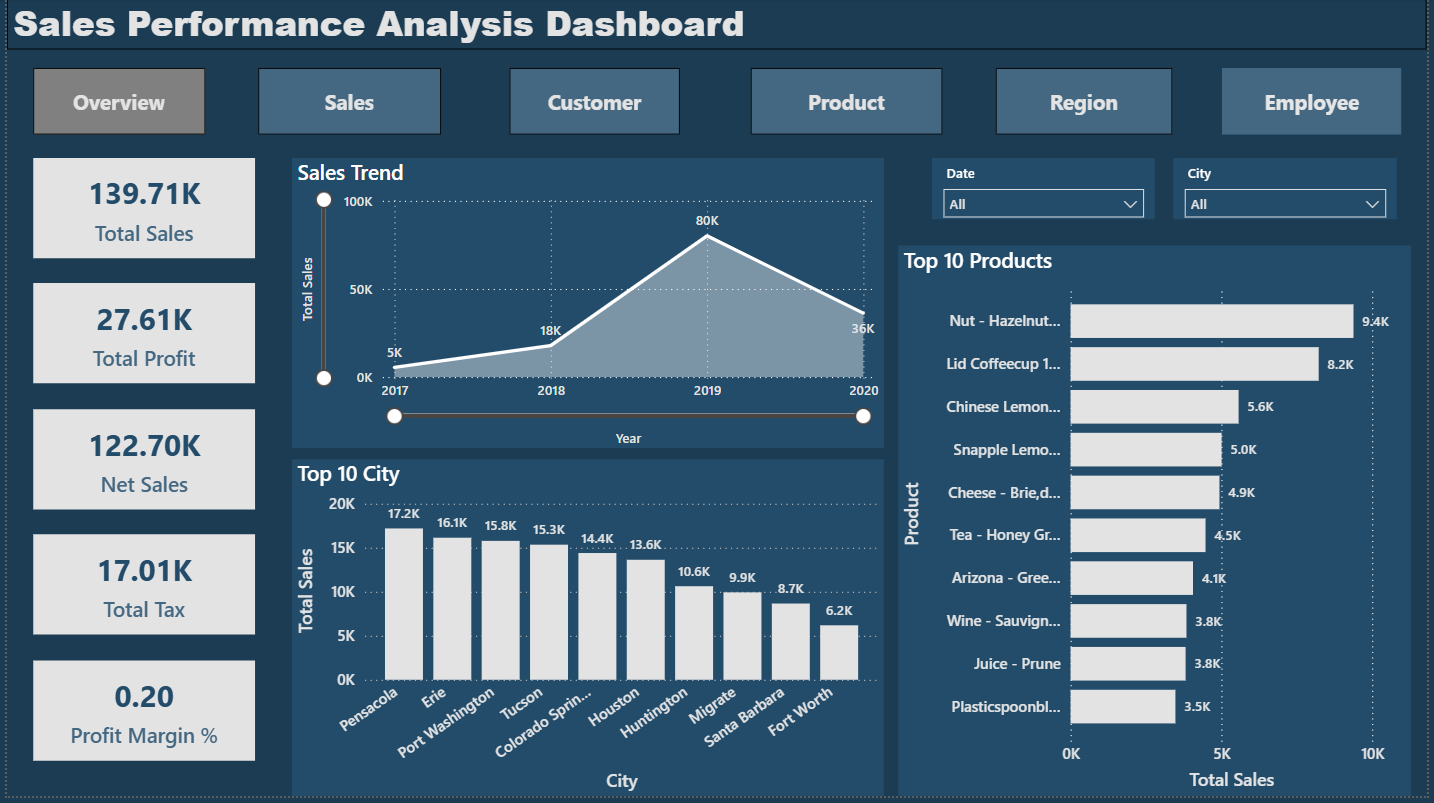

This screenshot's page, from the dashboard's own definition file:
{"tool":"powerbi","page":{"name":"Overview Dashboard","canvas":[1280,720],"ordinal":0},"visuals":[{"type":"textbox","title":"Sales Performance Analysis Dashboard","box":[0,0,1280.3,46.7],"z":0},{"type":"card","fields":{"Values":["sales.Total Sales"]},"box":[23.3,144.1,200.3,90],"z":1000},{"type":"card","fields":{"Values":["sales.Profit Margin %"]},"box":[23.3,596.9,200.3,90.6],"z":2000},{"type":"card","fields":{"Values":["sales.Total Profit"]},"box":[23.3,256.6,200.3,90.6],"z":3000},{"type":"card","fields":{"Values":["sales.Total Tax"]},"box":[23.3,483,200.3,90.6],"z":4000},{"type":"card","fields":{"Values":["sales.Net Sales"]},"box":[23.3,370.5,200.3,90.6],"z":5000},{"type":"lineChart","title":"Sales Trend","fields":{"Category":["sales.date.Variation.Date Hierarchy.Year","sales.date.Variation.Date Hierarchy.Quarter","sales.date.Variation.Date Hierarchy.Month","sales.date.Variation.Date Hierarchy.Day"],"Y":["sales.Total Sales"]},"box":[256.6,144.1,533.8,260.7],"z":6000},{"type":"barChart","title":"Top 10 Products","fields":{"Category":["products.product"],"Y":["sales.Total Sales"]},"box":[804.1,223.7,462.4,496.7],"z":7000},{"type":"columnChart","title":"Top 10 City","fields":{"Y":["sales.Total Sales"],"Category":["location.city"]},"box":[256.6,415.8,533.8,304.6],"z":8000},{"type":"slicer","fields":{"Values":["location.city"]},"box":[1051.1,144.1,201.7,54.9],"z":9000},{"type":"actionButton","box":[226.4,63.1,164.7,60.4],"z":10000},{"type":"actionButton","box":[452.8,63.1,153.7,60.4],"z":11000},{"type":"actionButton","box":[671,63.1,172.9,60.4],"z":12000},{"type":"actionButton","box":[891.9,63.1,159.2,60.4],"z":13000},{"type":"actionButton","title":"Over","box":[23.3,63.1,155.1,60.4],"z":14000},{"type":"actionButton","box":[1095,63.1,161.9,60.4],"z":15000},{"type":"slicer","fields":{"Values":["sales.date"]},"box":[834.4,144.5,201,55.3],"z":16000}]}

Visuals, with their boxes in screenshot pixels (x1, y1, x2, y2), scaled from the page's 1280x720 canvas onto the 1434x803 screenshot:
"Sales Performance Analysis Dashboard" textbox: [0,0,1433,52]
card - sales.Total Sales: [26,161,251,261]
card - sales.Profit Margin %: [26,666,251,767]
card - sales.Total Profit: [26,286,251,387]
card - sales.Total Tax: [26,539,251,640]
card - sales.Net Sales: [26,413,251,514]
"Sales Trend" lineChart: [287,161,885,451]
"Top 10 Products" barChart: [901,249,1419,802]
"Top 10 City" columnChart: [287,464,885,802]
slicer - location.city: [1178,161,1404,222]
actionButton: [254,70,438,138]
actionButton: [507,70,679,138]
actionButton: [752,70,945,138]
actionButton: [999,70,1178,138]
"Over" actionButton: [26,70,200,138]
actionButton: [1227,70,1408,138]
slicer - sales.date: [935,161,1160,223]
